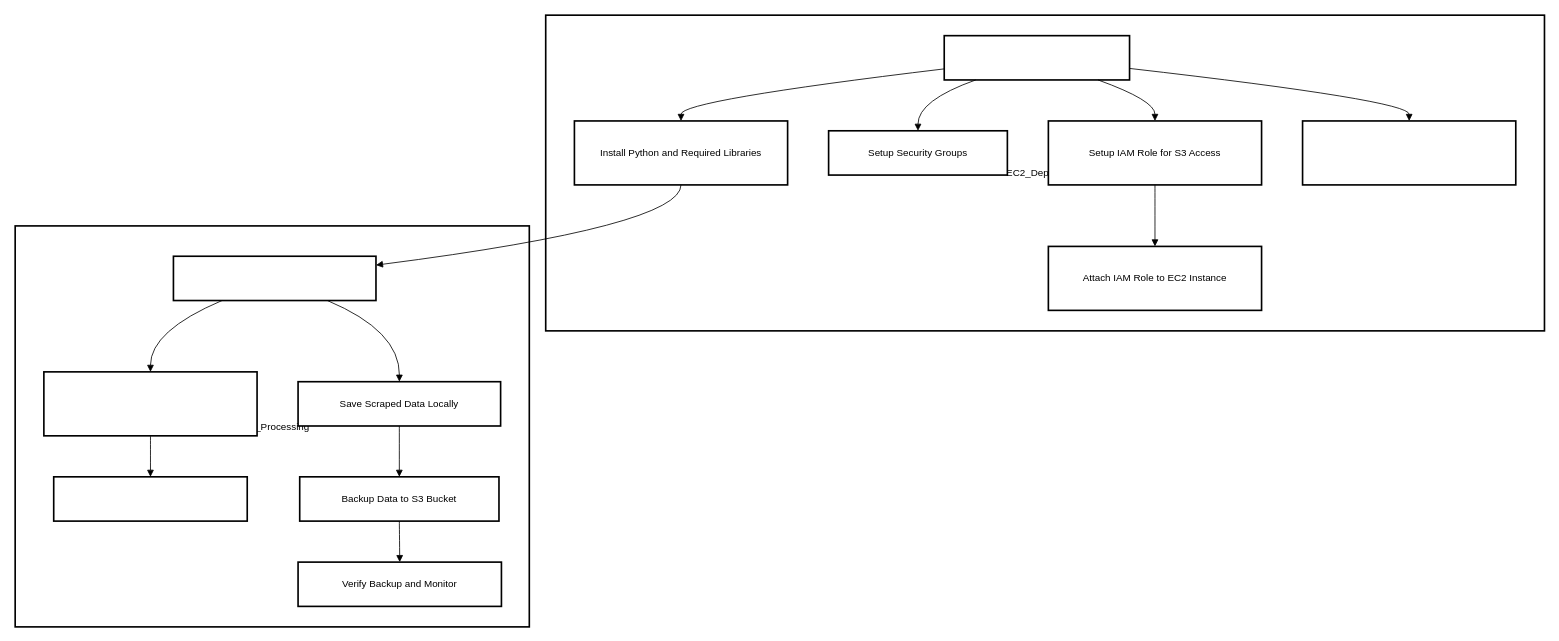
Some shapes in this 1559 by 641 pixel diagram are drawn without their labels. Each missing label, with the centre of its shape:
Create an EC2 Instance: (x=1036, y=57)
Create an S3 Bucket for Backups: (x=1408, y=152)
Run Scraper on Schedule: (x=150, y=499)
Schedule the Scraper using Cron: (x=150, y=403)
Write Python Web Scraper: (x=274, y=278)
